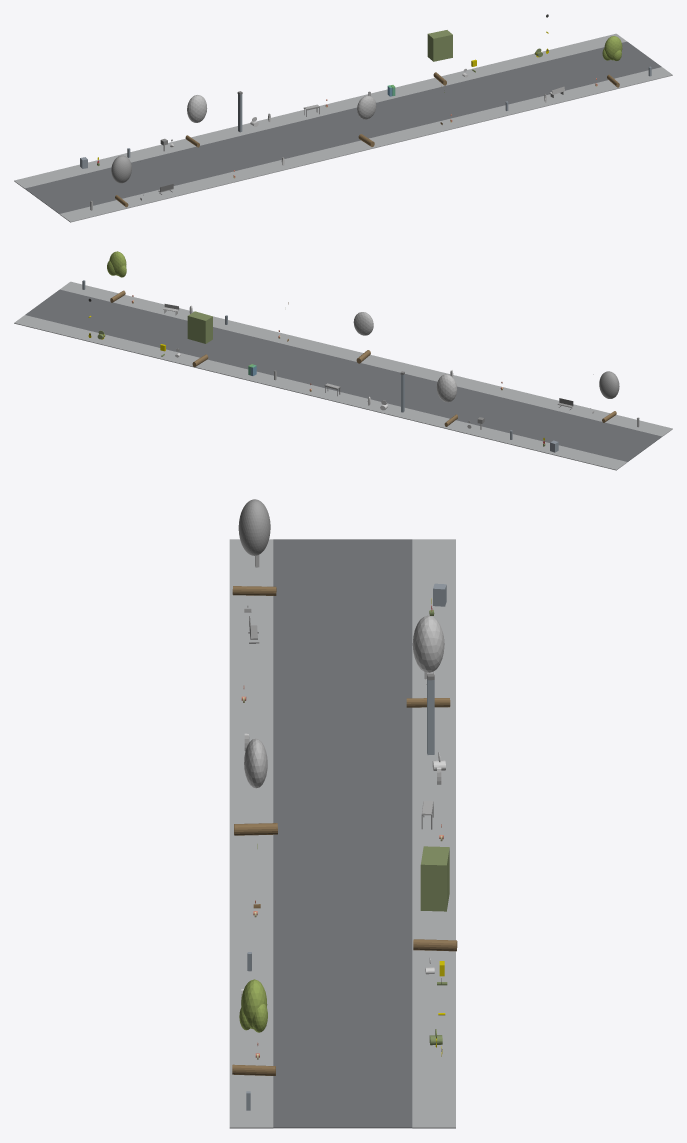
The picture shows the model from 3 angles, top to bottom: view 1: azimuth 30°, elevation 25°; view 2: azimuth 150°, elevation 25°; view 3: azimuth 270°, elevation 25°; orthographic projection. The views are drawn at different scales.
Parts seen in each view (by area): view 1: road_slab, sidewalk_left, sidewalk_right, inst_0015, inst_0012, inst_0013, inst_0016, inst_0014; view 2: road_slab, sidewalk_right, sidewalk_left, inst_0015, inst_0013, inst_0012, inst_0016, inst_0014; view 3: road_slab, sidewalk_left, sidewalk_right, inst_0015, inst_0012, inst_0013, inst_0016, inst_0014.
Boxes of the visible parts, <box> form: road_slab: <box>25,41,661,213</box>; sidewalk_left: <box>59,67,672,222</box>; sidewalk_right: <box>14,33,626,188</box>; inst_0015: <box>427,30,452,85</box>; inst_0012: <box>111,155,131,207</box>; inst_0013: <box>185,95,207,147</box>; inst_0016: <box>602,36,622,87</box>; inst_0014: <box>357,95,376,146</box>; road_slab: <box>25,289,661,461</box>; sidewalk_right: <box>14,315,627,470</box>; sidewalk_left: <box>60,281,672,436</box>; inst_0015: <box>187,311,212,367</box>; inst_0013: <box>436,374,457,426</box>; inst_0012: <box>599,371,619,422</box>; inst_0016: <box>107,251,126,302</box>; inst_0014: <box>353,312,373,363</box>; road_slab: <box>273,539,412,1128</box>; sidewalk_left: <box>229,539,273,1128</box>; sidewalk_right: <box>412,539,455,1128</box>; inst_0015: <box>413,846,457,951</box>; inst_0012: <box>232,499,276,595</box>; inst_0013: <box>406,615,450,707</box>; inst_0016: <box>232,979,275,1075</box>; inst_0014: <box>234,738,277,835</box>.
Bounding box in the file's own units: 80 × 6.08 × 13.08.
